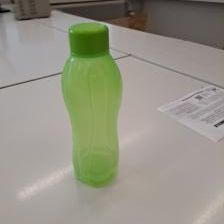bottle: (60, 20, 123, 188)
